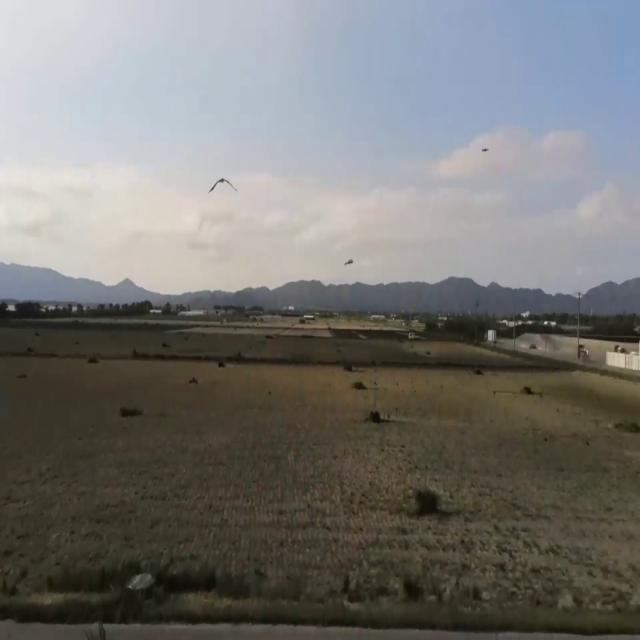bird: (208, 161, 236, 210), (344, 251, 354, 275), (481, 139, 489, 162)
